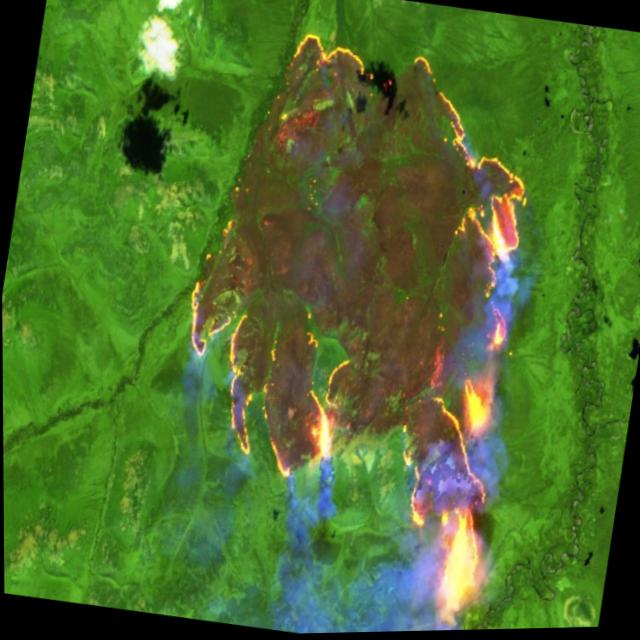fire: (137, 10, 569, 638)
